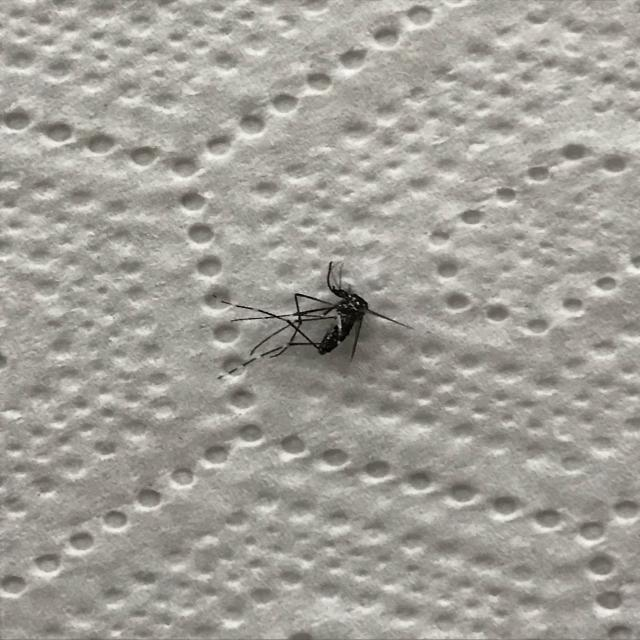albopictus: (211, 251, 422, 379)
